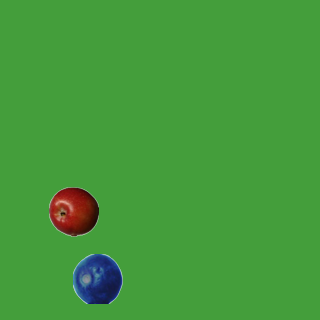Apple Braeburn: (48, 186, 98, 236)
Huckleberry: (72, 253, 122, 303)
